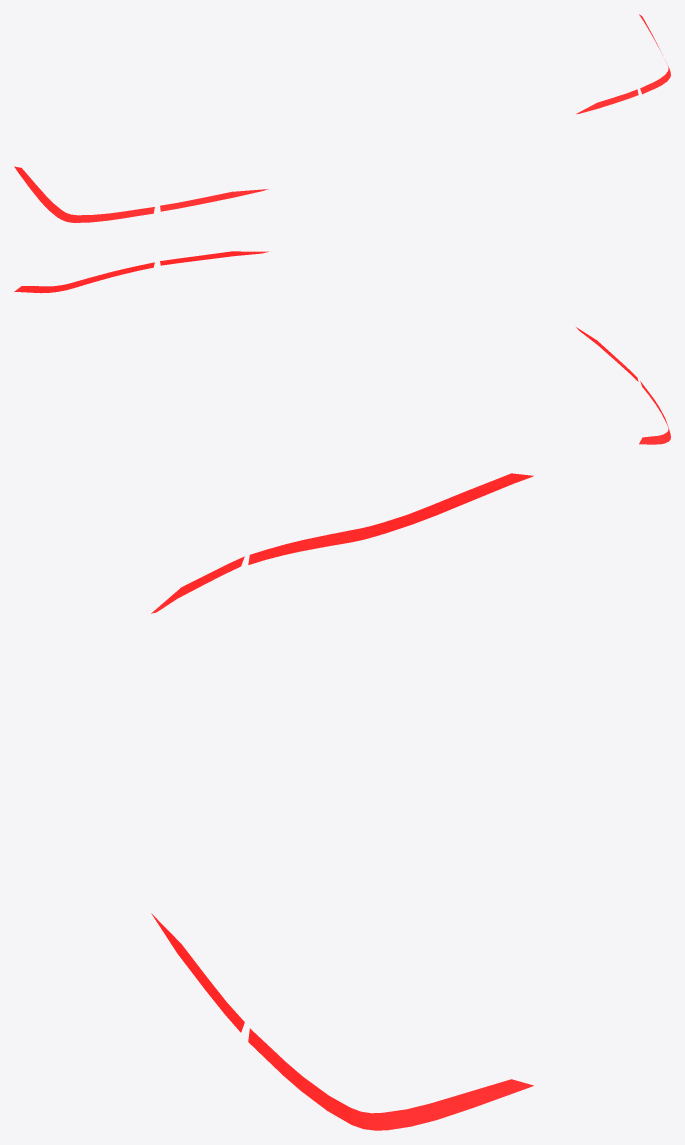
Rendered from red_part.glb.
3 renders of one model, top to bottom at view 1: azimuth 30°, elevation 25°; view 2: azimuth 150°, elevation 25°; view 3: azimuth 270°, elevation 25°, orthographic. The views are drawn at different scales.
Visible parts, largest first — view 1: red_part; view 2: red_part; view 3: red_part.
Part boxes in pixels (x1,y1,x2,y2): red_part: [14, 14, 670, 222]; red_part: [14, 251, 670, 444]; red_part: [151, 473, 533, 1130].
Bounding box in the file's own units: 1.51 × 0.0826 × 0.4027.
